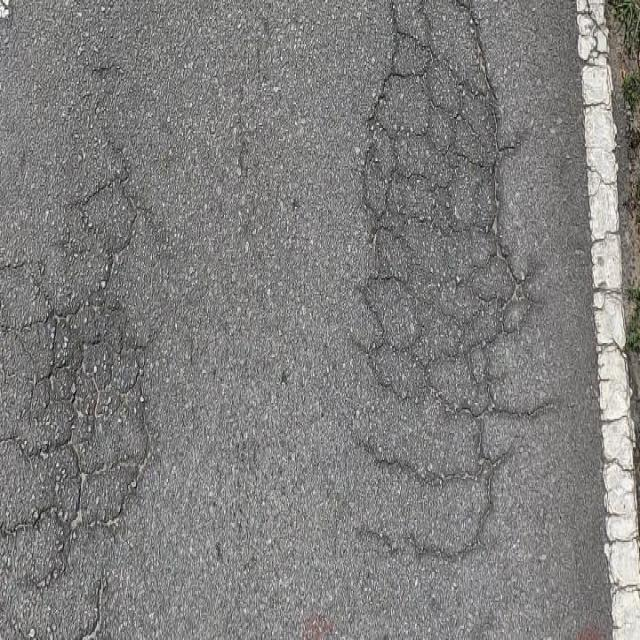cracks: (341, 0, 566, 558), (0, 76, 165, 640)
